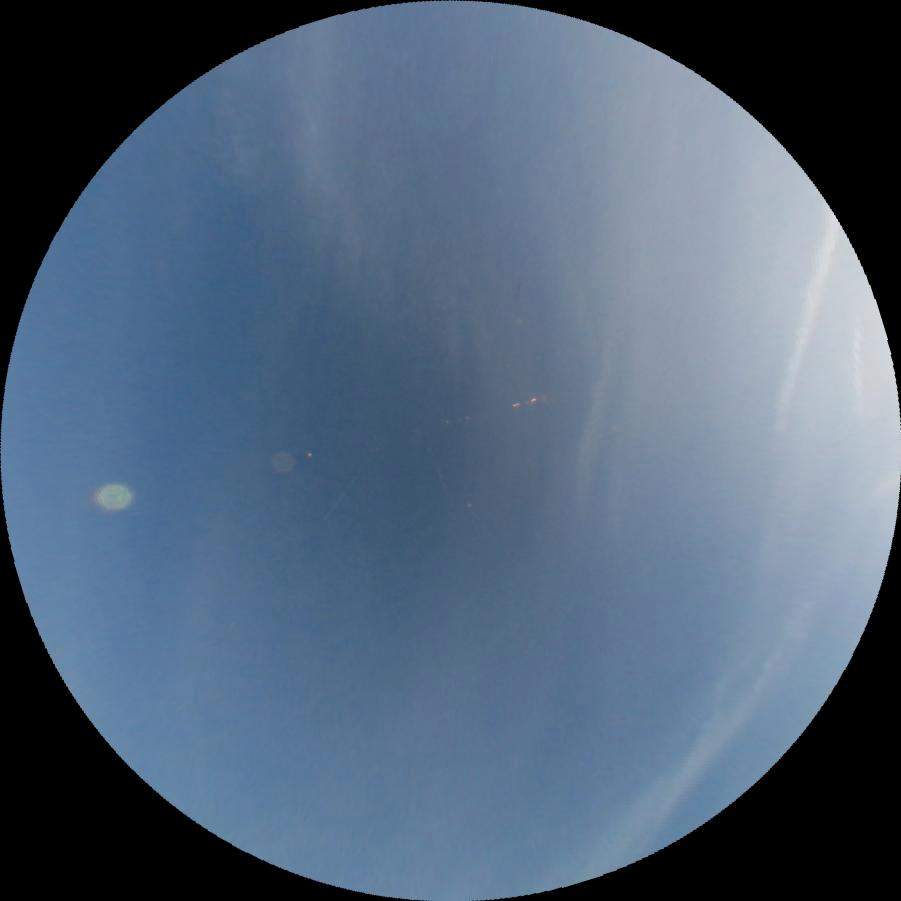contrail veryold: (769, 213, 844, 419)
contrail young: (320, 449, 379, 522)
